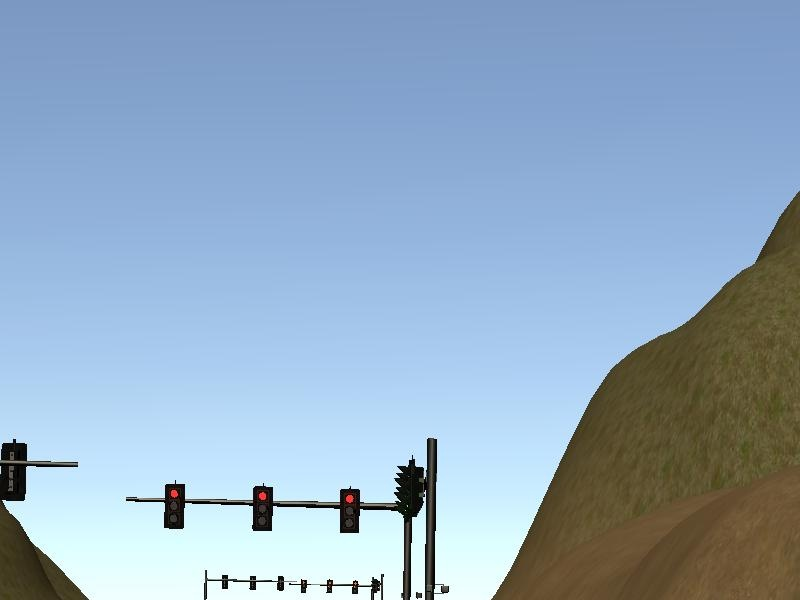red: (248, 484, 277, 537), (160, 481, 186, 531), (340, 493, 357, 531)
